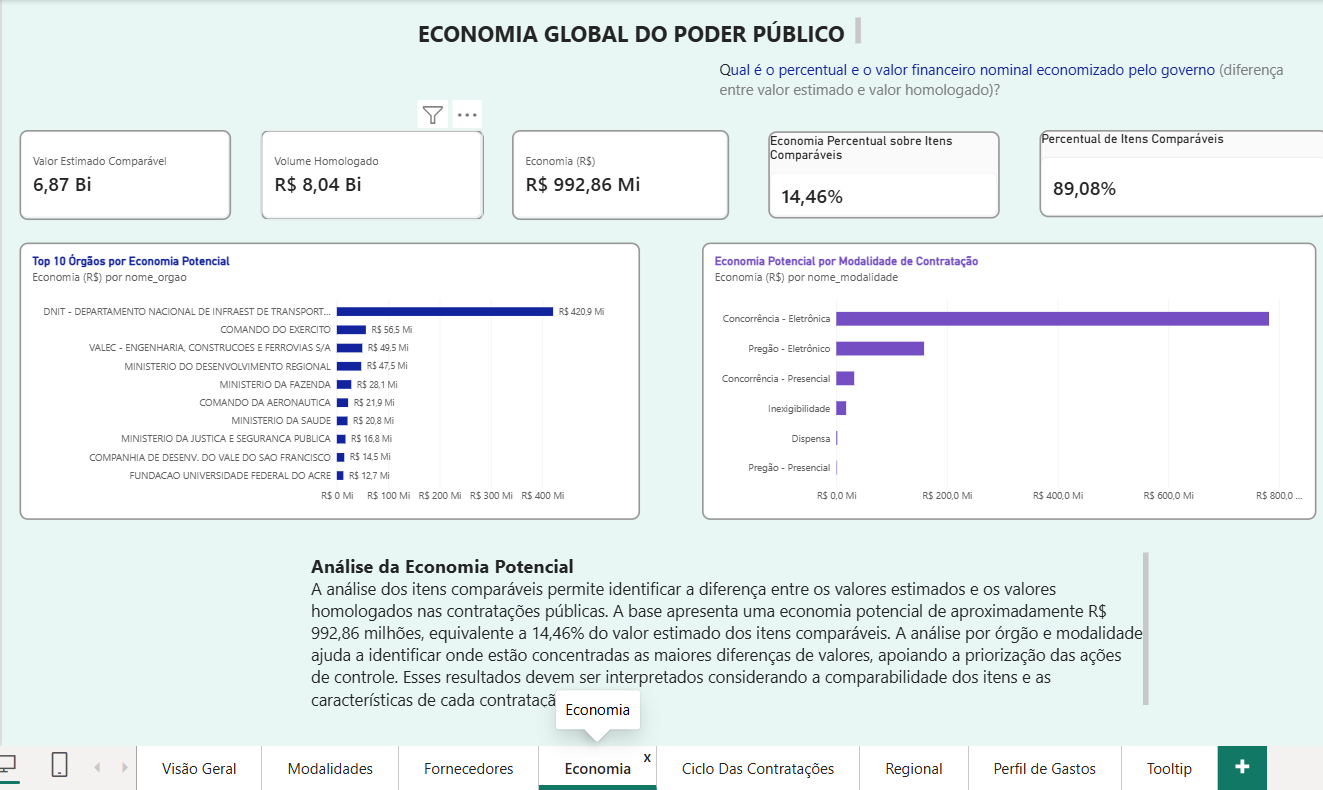

Layout of this report page (visuals, bound fields, positions):
{"tool":"powerbi","page":{"name":"Economia","canvas":[1920,1080],"ordinal":4},"visuals":[{"type":"cardVisual","fields":{"Data":["Medidas.Valor Estimado Comparável"]},"box":[25.3,188.2,306.3,130.4],"z":0},{"type":"cardVisual","fields":{"Data":["Medidas.Volume Homologado"]},"box":[374.6,188.2,322.8,130.4],"z":1000},{"type":"cardVisual","fields":{"Data":["Medidas.Economia (R$)"]},"box":[738.3,188.2,314.6,130.4],"z":2000},{"type":"cardVisual","title":"Economia Percentual sobre Itens Comparáveis","fields":{"Data":["Medidas.Economia %"]},"box":[1109.3,190,335.2,126.2],"z":3000},{"type":"cardVisual","title":"Percentual de Itens Comparáveis","fields":{"Data":["Medidas.% de Itens Comparáveis"]},"box":[1502,188.2,418,126.2],"z":4000},{"type":"clusteredBarChart","title":"Top 10 Órgãos por Economia Potencial ","fields":{"Category":["pncp_controladoria dim_orgao.nome_orgao"],"Y":["Medidas.Economia (R$)"]},"box":[25.3,351.1,898.1,401.5],"z":5000},{"type":"clusteredBarChart","title":"Economia Potencial por Modalidade de Contratação ","fields":{"Category":["pncp_controladoria dim_modalidade.nome_modalidade"],"Y":["Medidas.Economia (R$)"]},"box":[1013.4,351.1,889.8,401.5],"z":6000},{"type":"textbox","box":[447,799.9,1212.5,224.4],"z":7000},{"type":"textbox","box":[602.6,25.3,640.6,39.8],"z":8000},{"type":"textbox","box":[1038.7,85.1,841.5,79.6],"z":9000}]}

Visuals, with their boxes on the page's 1920x1080 design canvas (x1, y1, x2, y2). These are canvas units, not pixel positions in the 1323x790 screenshot, which may show the page scaled, cropped or inside an application window:
cardVisual - Medidas.Valor Estimado Comparável: (x1=25, y1=188, x2=332, y2=319)
cardVisual - Medidas.Volume Homologado: (x1=375, y1=188, x2=697, y2=319)
cardVisual - Medidas.Economia (R$): (x1=738, y1=188, x2=1053, y2=319)
"Economia Percentual sobre Itens Comparáveis" cardVisual: (x1=1109, y1=190, x2=1444, y2=316)
"Percentual de Itens Comparáveis" cardVisual: (x1=1502, y1=188, x2=1920, y2=314)
"Top 10 Órgãos por Economia Potencial " clusteredBarChart: (x1=25, y1=351, x2=923, y2=753)
"Economia Potencial por Modalidade de Contratação " clusteredBarChart: (x1=1013, y1=351, x2=1903, y2=753)
textbox: (x1=447, y1=800, x2=1660, y2=1024)
textbox: (x1=603, y1=25, x2=1243, y2=65)
textbox: (x1=1039, y1=85, x2=1880, y2=165)
